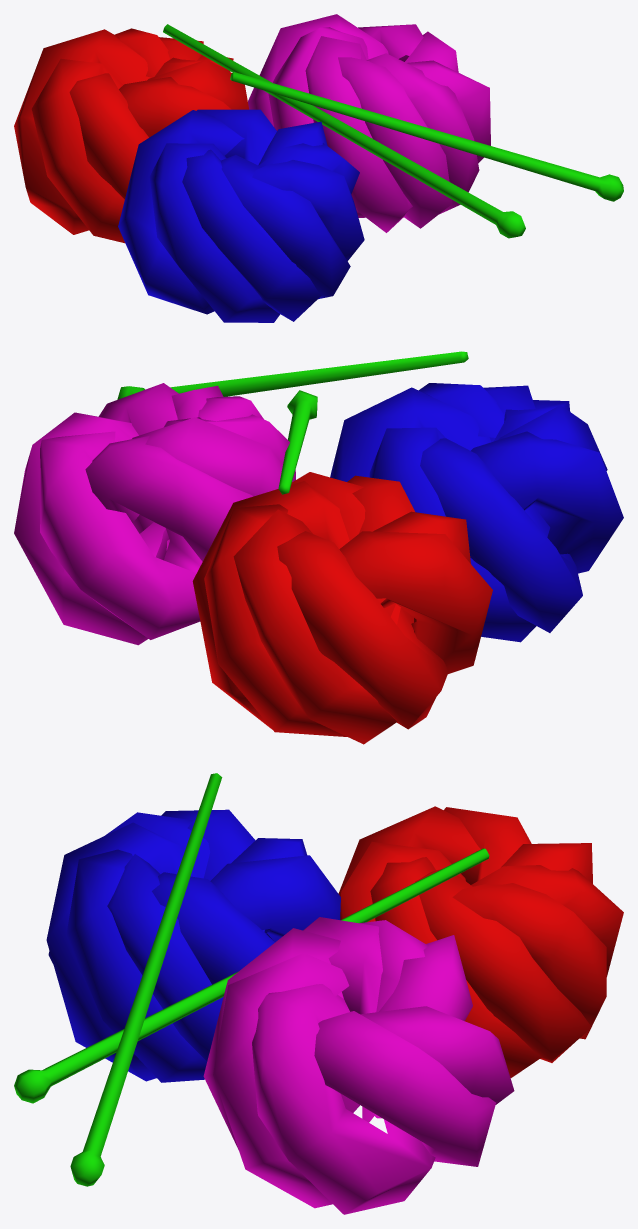
Rendered from Con_11.fbx.
3 views of the same model, one above another, from view 1: azimuth 30°, elevation 25°; view 2: azimuth 150°, elevation 25°; view 3: azimuth 270°, elevation 25° (orthographic). The views are drawn at different scales.
Visible parts, largest first — view 1: Con_11; view 2: Con_11; view 3: Con_11.
Part boxes in pixels (x1,y1,x2,y2): Con_11: (14,14,623,322); Con_11: (14,351,623,744); Con_11: (14,773,623,1214).
Bounding box in the file's own units: 16.46 × 8.43 × 15.97.
